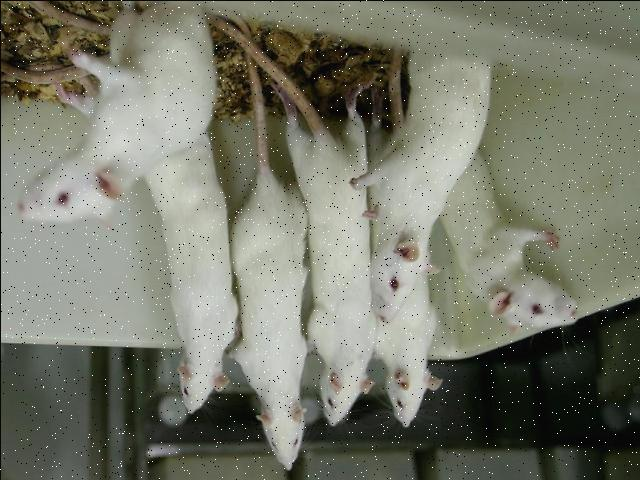Tikus: (19, 0, 196, 230), (232, 129, 312, 474), (460, 168, 592, 347), (166, 164, 236, 418), (308, 220, 374, 436), (378, 324, 448, 432)
